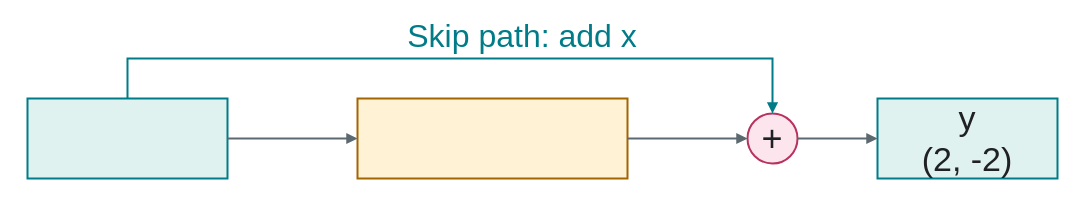
This 1084x211 diagram has some shape labels left out. The shapes that lost their labels are listed below. From the top down, each one's centre as x and y in pixels, then its label:
the point at 127,138: x (1, -2)
the point at 492,138: f(x) (1, 0)
